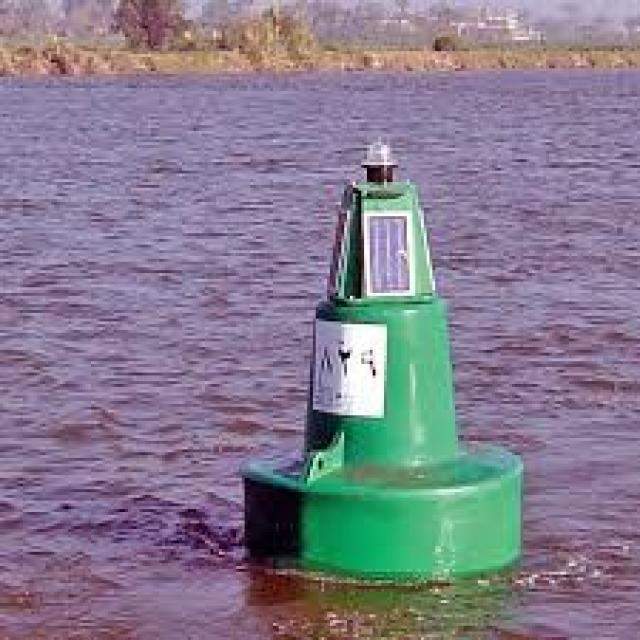buoy: (237, 90, 538, 608)
